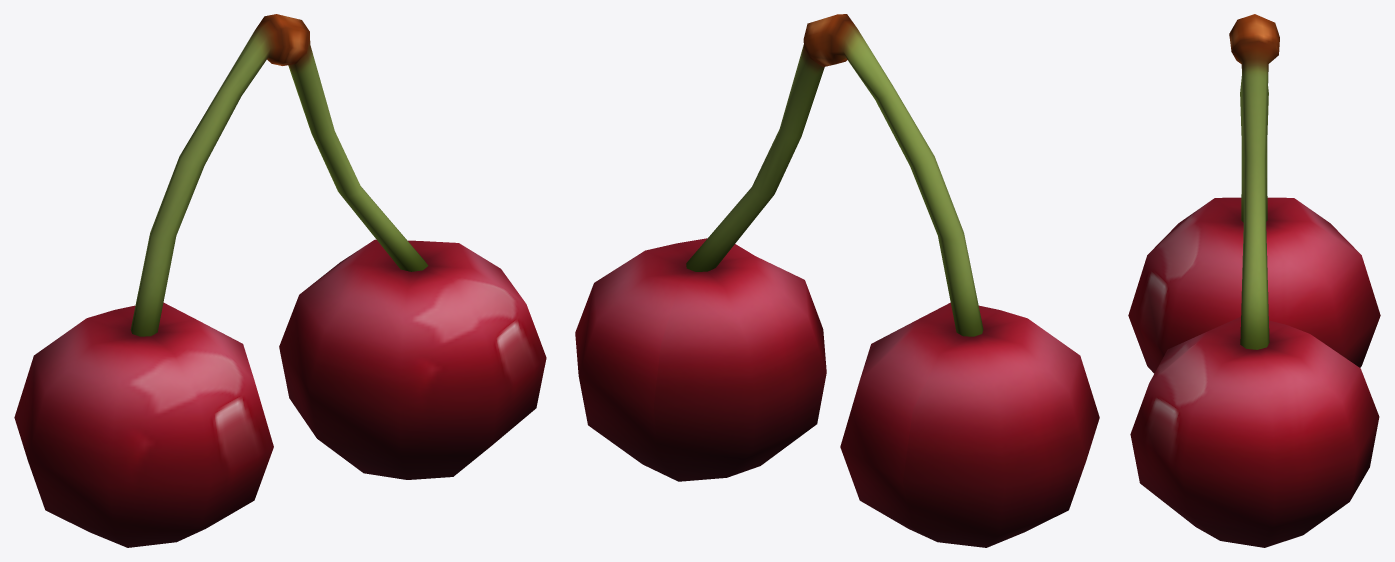
File: Cherry.fbx
3 views of the same model, side by side, from view 1: azimuth 30°, elevation 25°; view 2: azimuth 150°, elevation 25°; view 3: azimuth 270°, elevation 25° (orthographic). The views are drawn at different scales.
Visible parts, largest first — view 1: Cherry; view 2: Cherry; view 3: Cherry.
Part boxes in pixels (x1,y1,x2,y2): Cherry: (14,14,546,547); Cherry: (575,14,1099,547); Cherry: (1128,14,1380,547).
Size of the model in its own units: 29.51 by 26.82 by 13.74.
